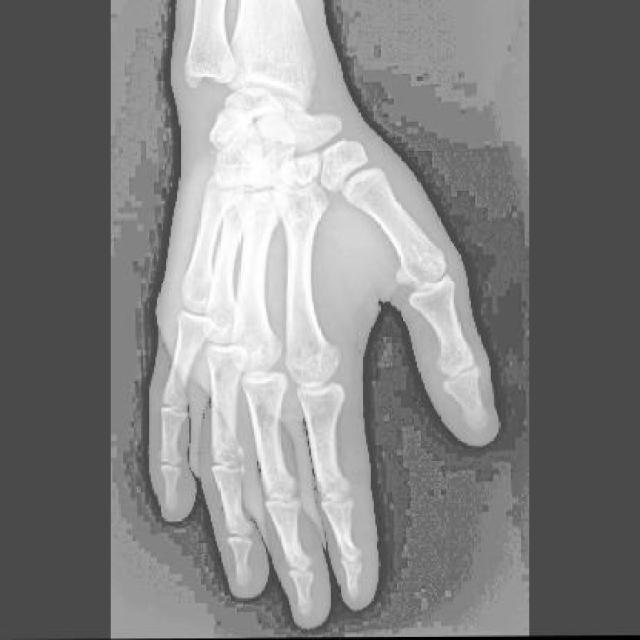Fracture: (240, 146, 280, 191)
